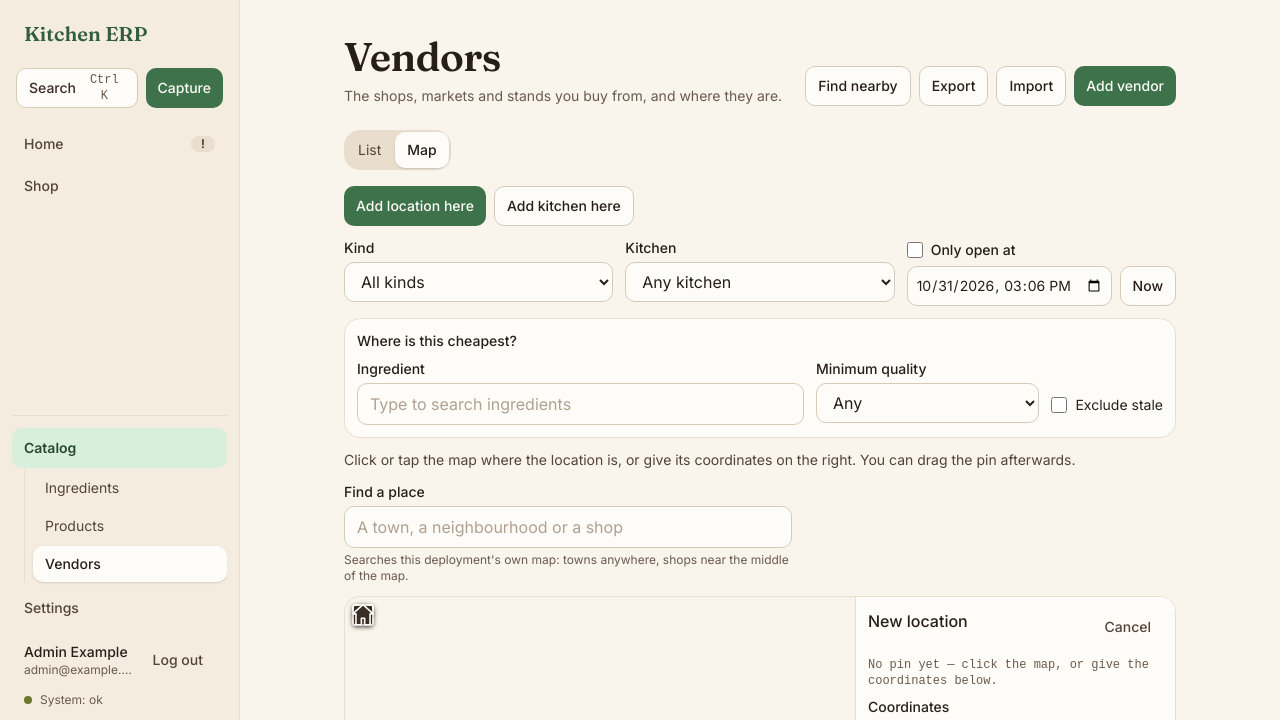
Scenario: map › puts the new pin on a shop found by name, and names the location after it
In the dropdown labelled "Find a place": (568, 527) left=344, top=506, right=792, bottom=548, type "grocer"
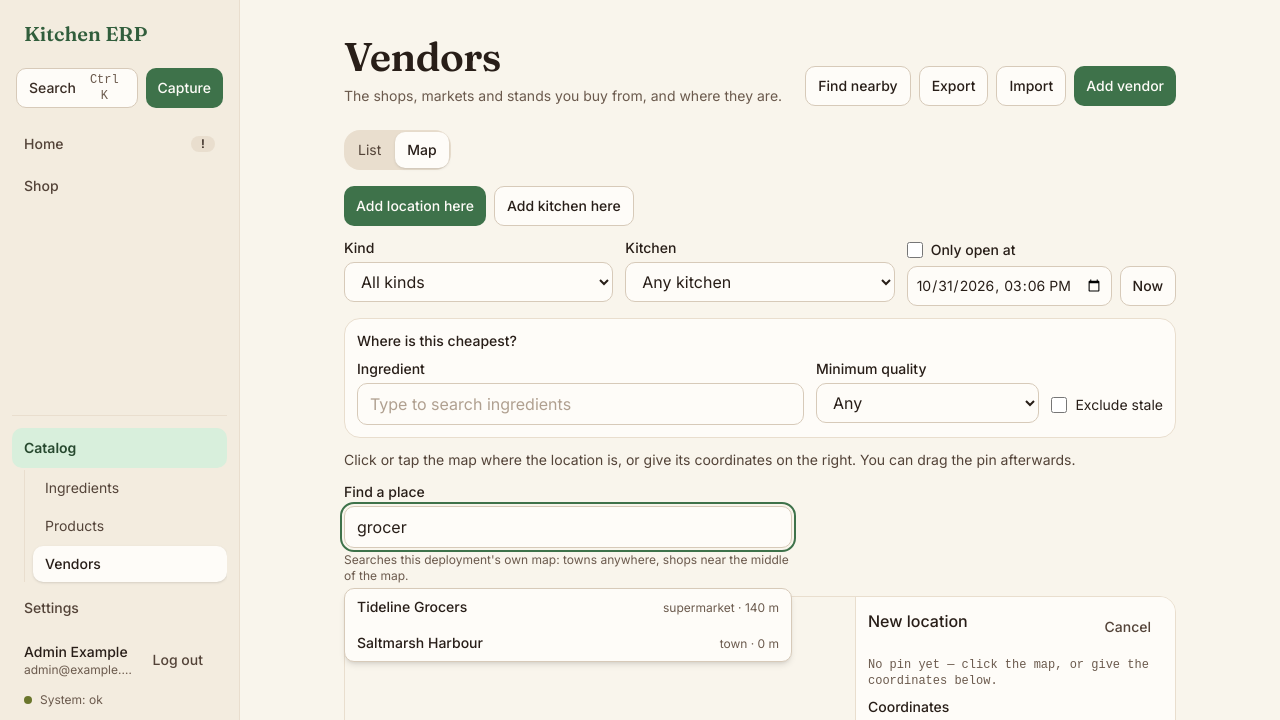
Click the option "Tideline Grocers supermarket · 140 m": (412, 606) left=357, top=598, right=779, bottom=615
(page scrolled)
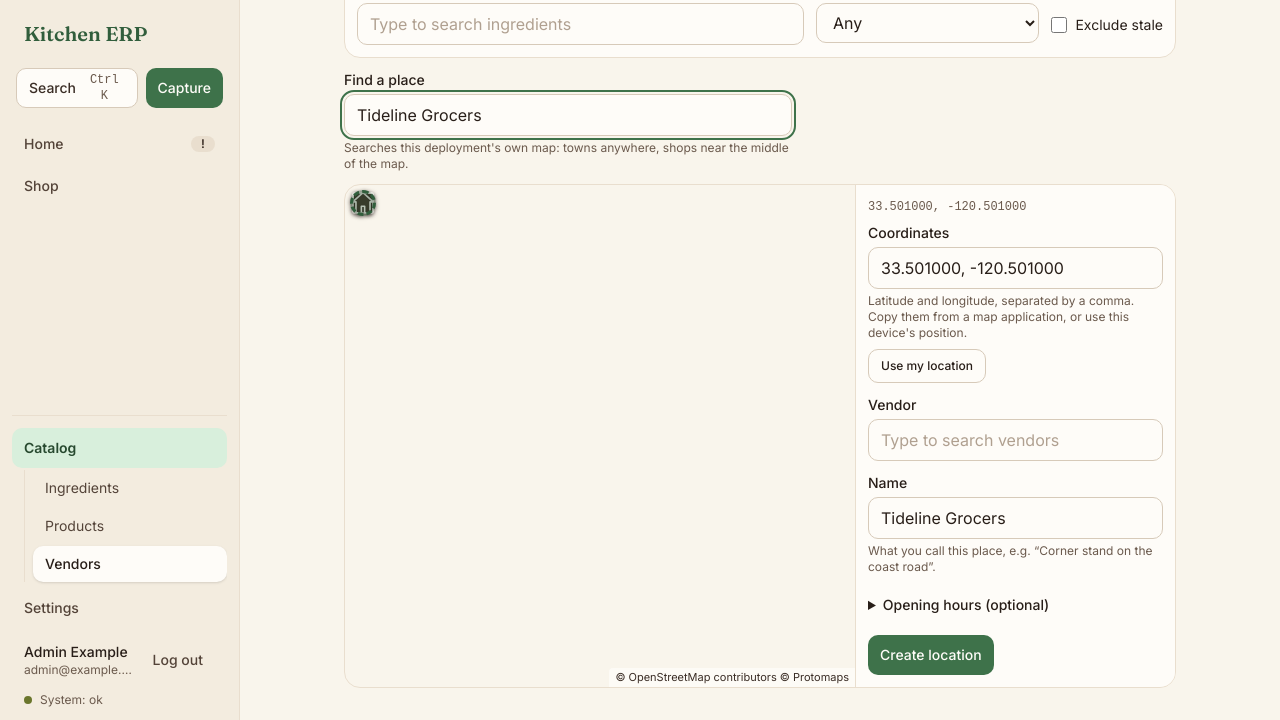
Expected: the text with test id "draft-point" reads "33.501000, -120.501000", left=868, top=200, right=1026, bottom=214
Expected: the field labelled "Name" holds "Tideline Grocers", left=868, top=497, right=1163, bottom=539
